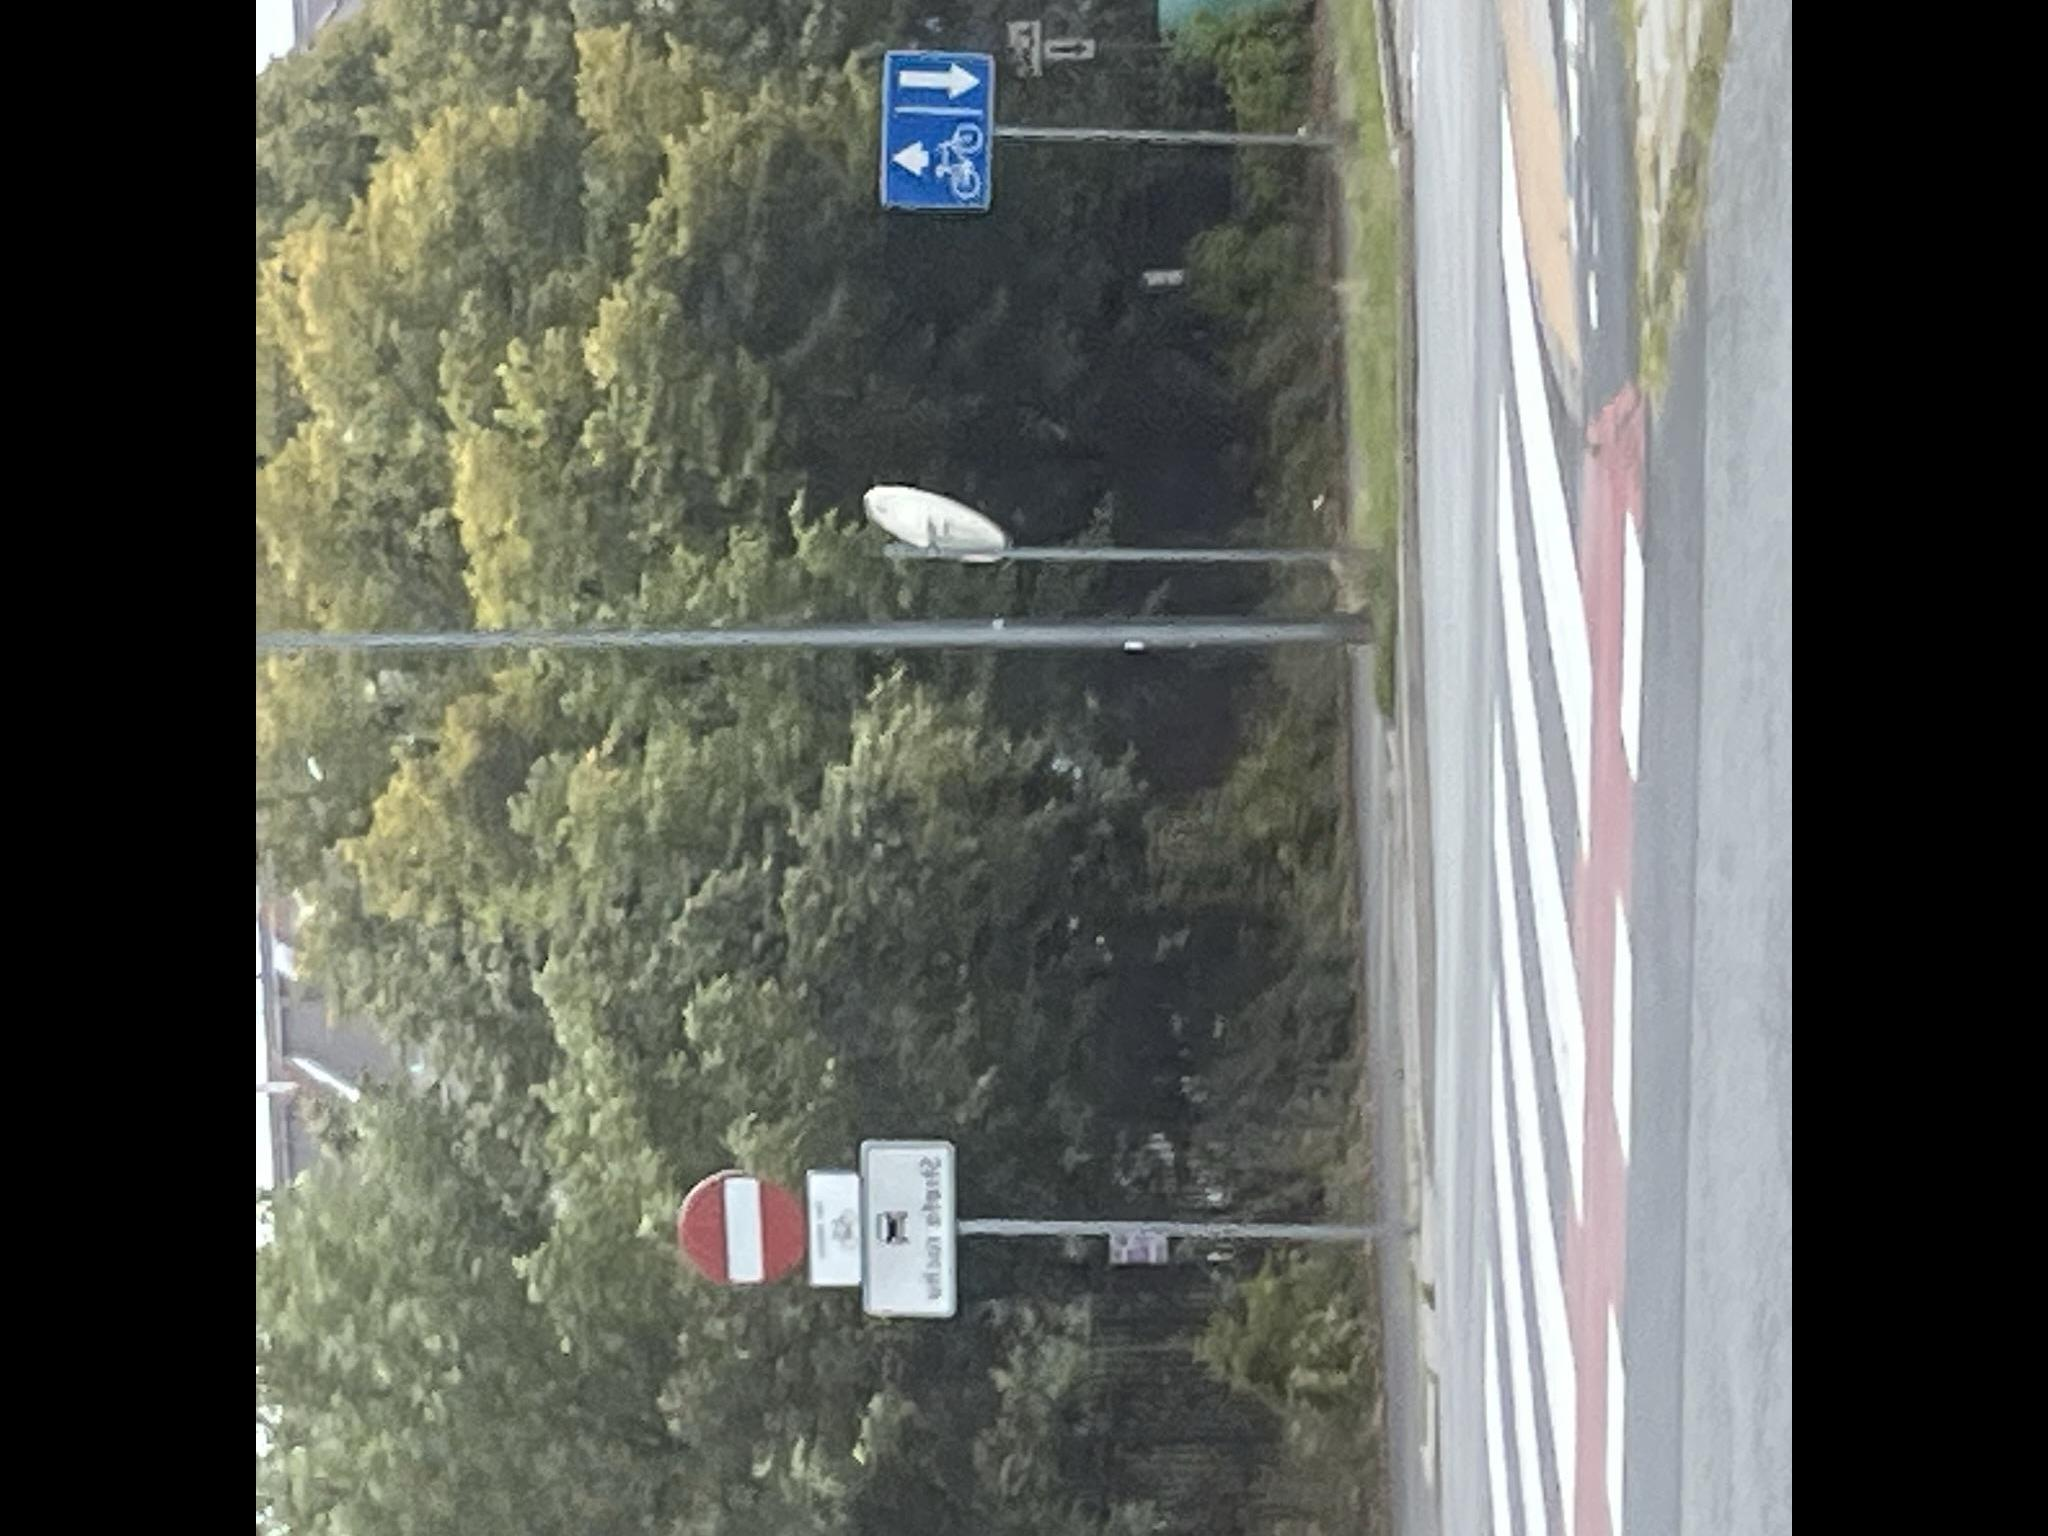information: (877, 48, 997, 216), (864, 1137, 958, 1325)
other: (806, 1170, 864, 1291), (1005, 16, 1043, 82), (1039, 34, 1100, 61)
prohibitory: (672, 1168, 810, 1292)
